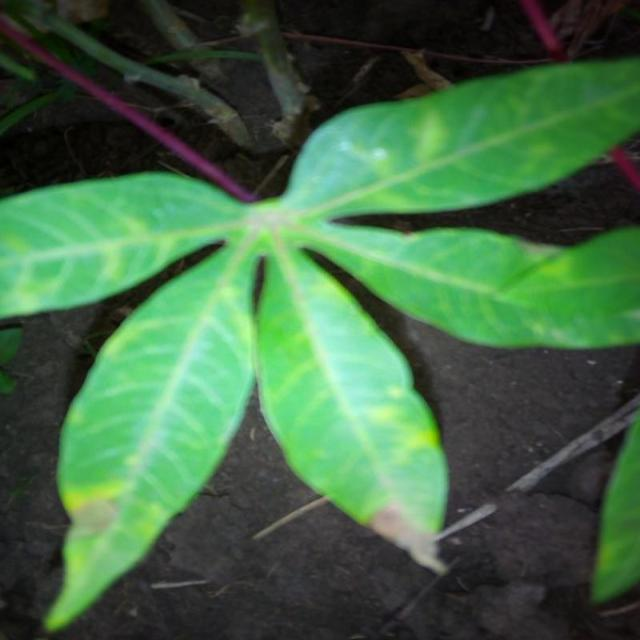cassava leaf: (1, 51, 638, 632), (42, 242, 256, 632), (253, 231, 450, 574)
